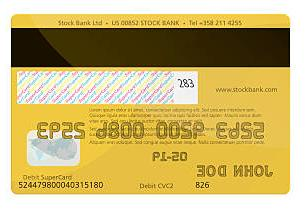payment_card: (11, 13, 290, 195)
